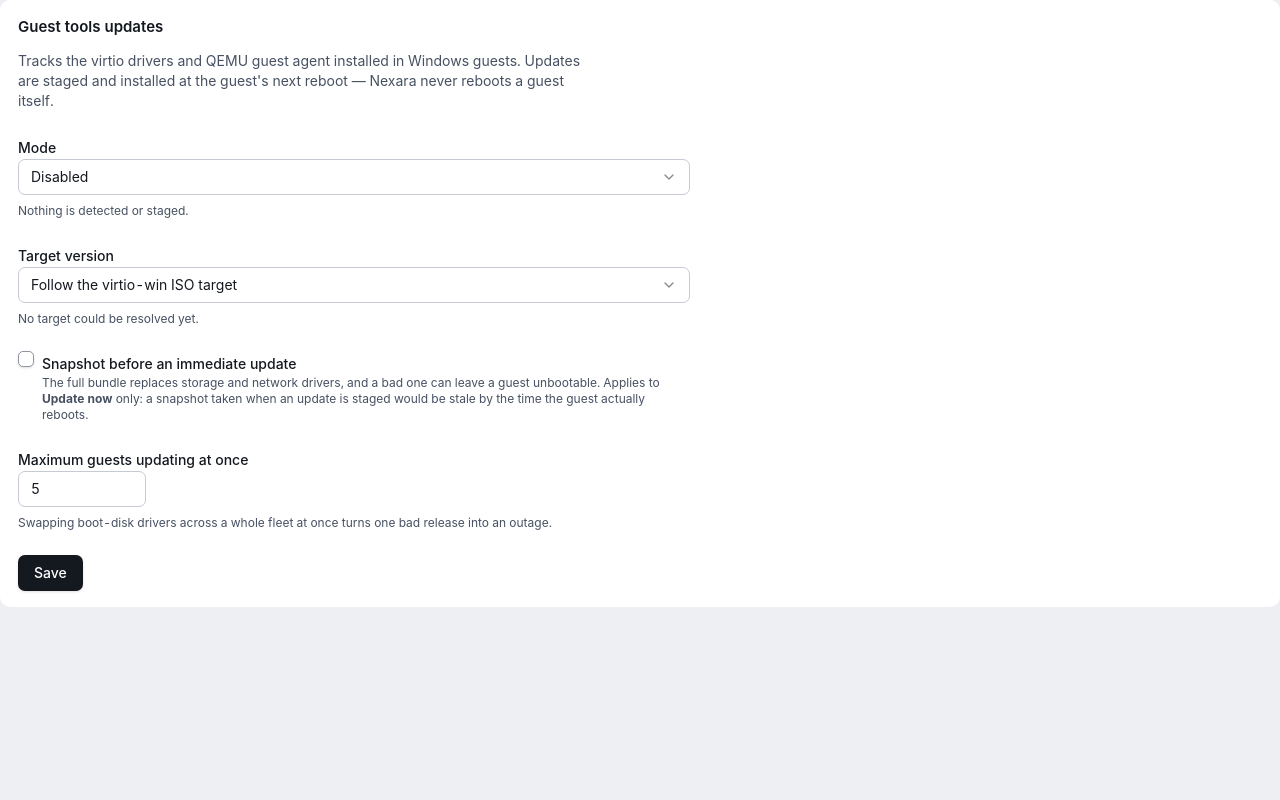
a failed save › is shown once, in place: guest-tools: the policy's Save
Click the button "Save" at (50, 572), box [18, 554, 83, 590]
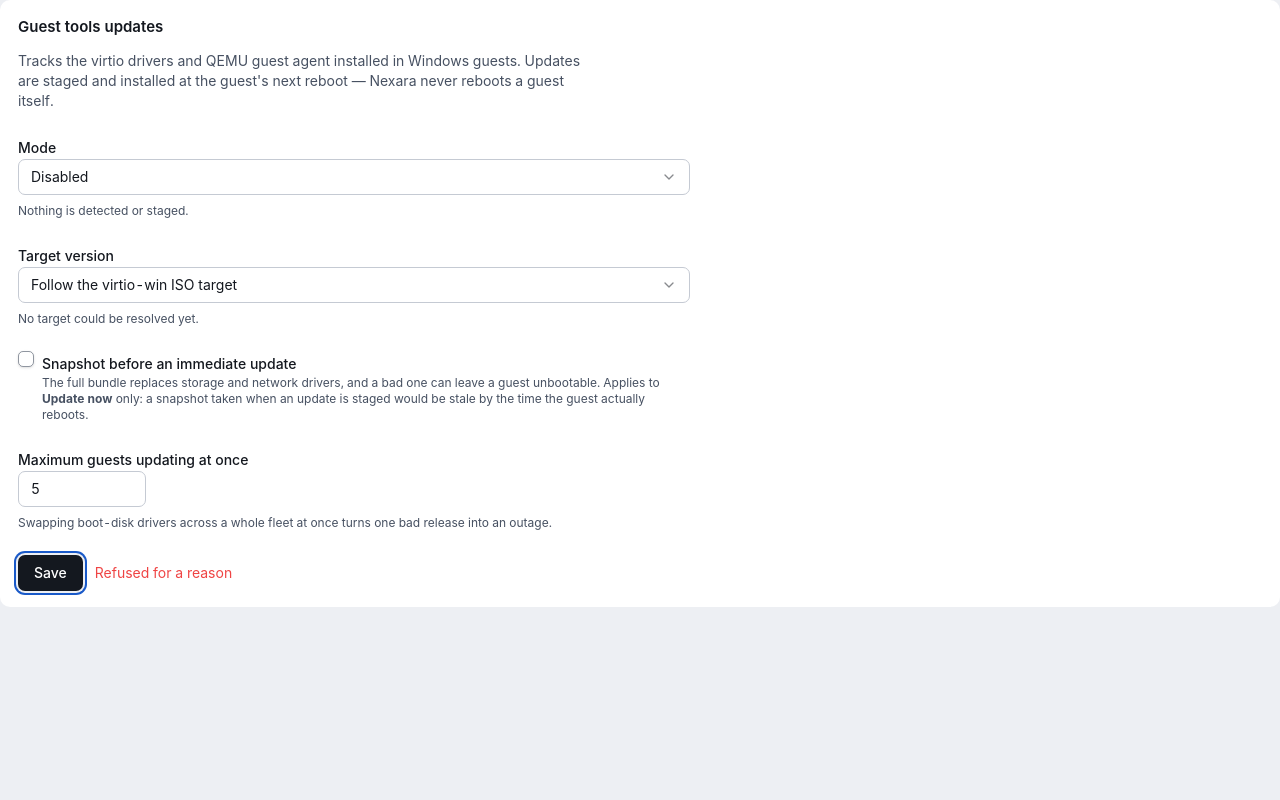
Now the text "Refused for a reason" is shown, box [95, 562, 232, 582]
